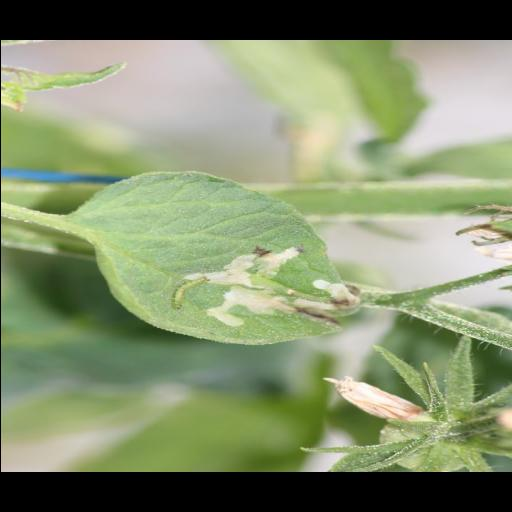Leaf Miner: (62, 168, 360, 350)
